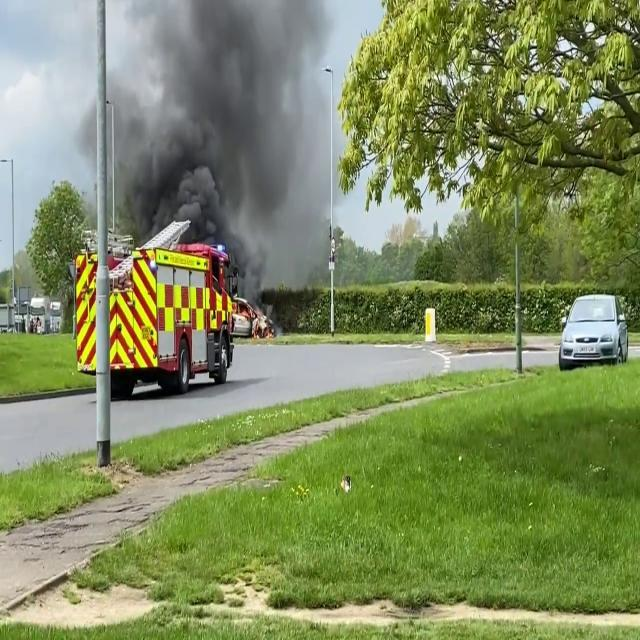Smoke: (76, 1, 322, 257)
